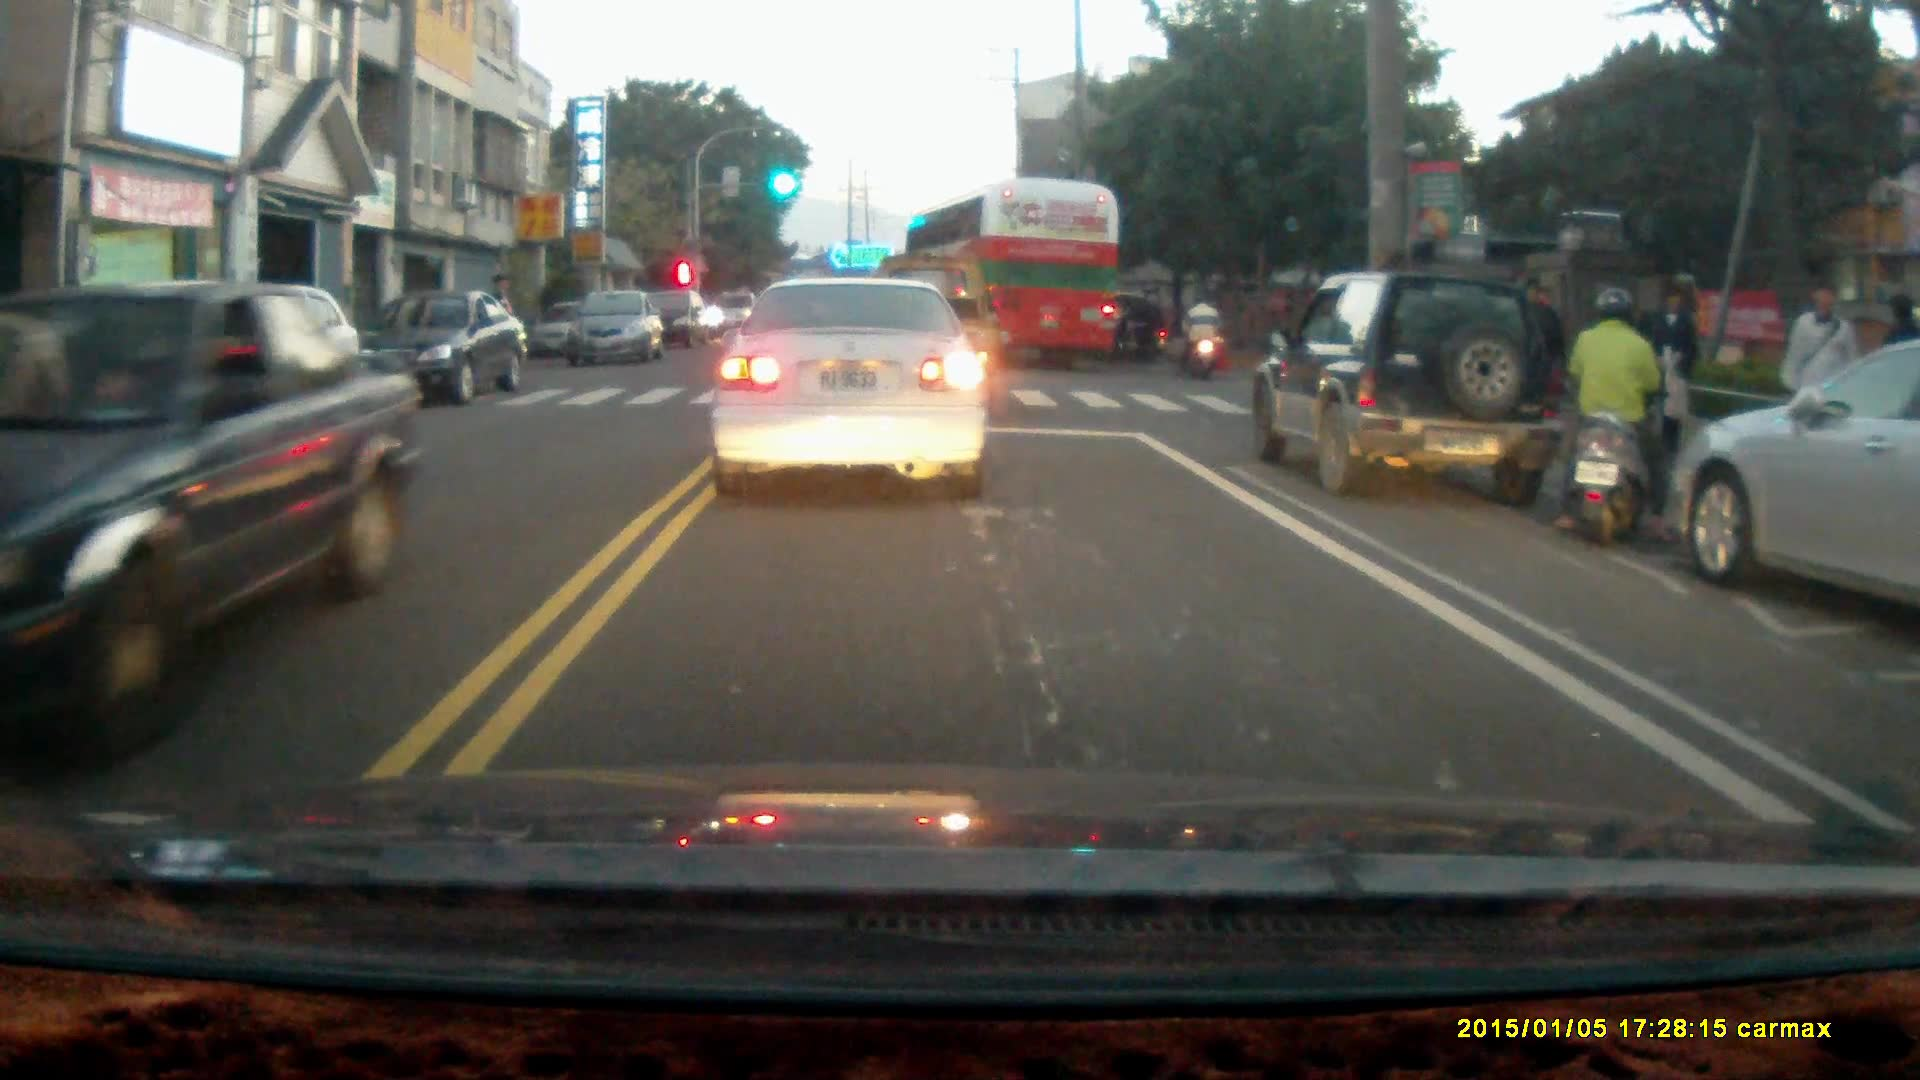pedestrian: (1785, 271, 1864, 452), (1644, 280, 1702, 462)
rider: (1552, 286, 1682, 543), (1105, 291, 1171, 365), (1179, 288, 1223, 378)
vehicle: (5, 275, 432, 765), (1248, 272, 1572, 505), (1671, 339, 1920, 615), (706, 272, 994, 503), (900, 177, 1123, 376), (354, 287, 530, 405), (567, 291, 663, 370), (632, 286, 717, 355)
